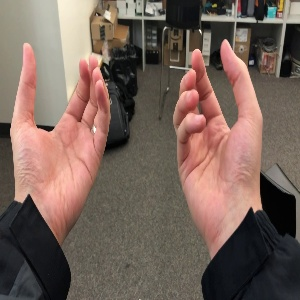hand: (10, 44, 110, 221), (172, 40, 262, 219)
